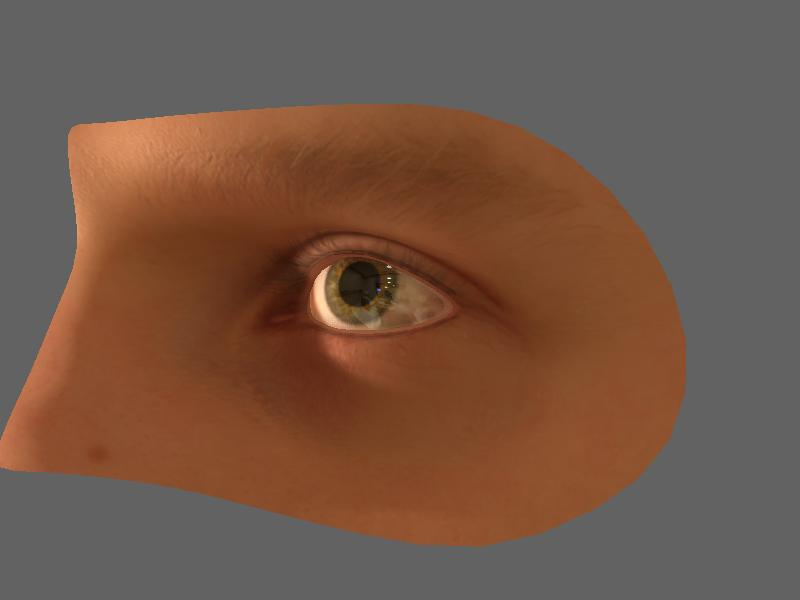iris: (330, 256, 398, 320)
